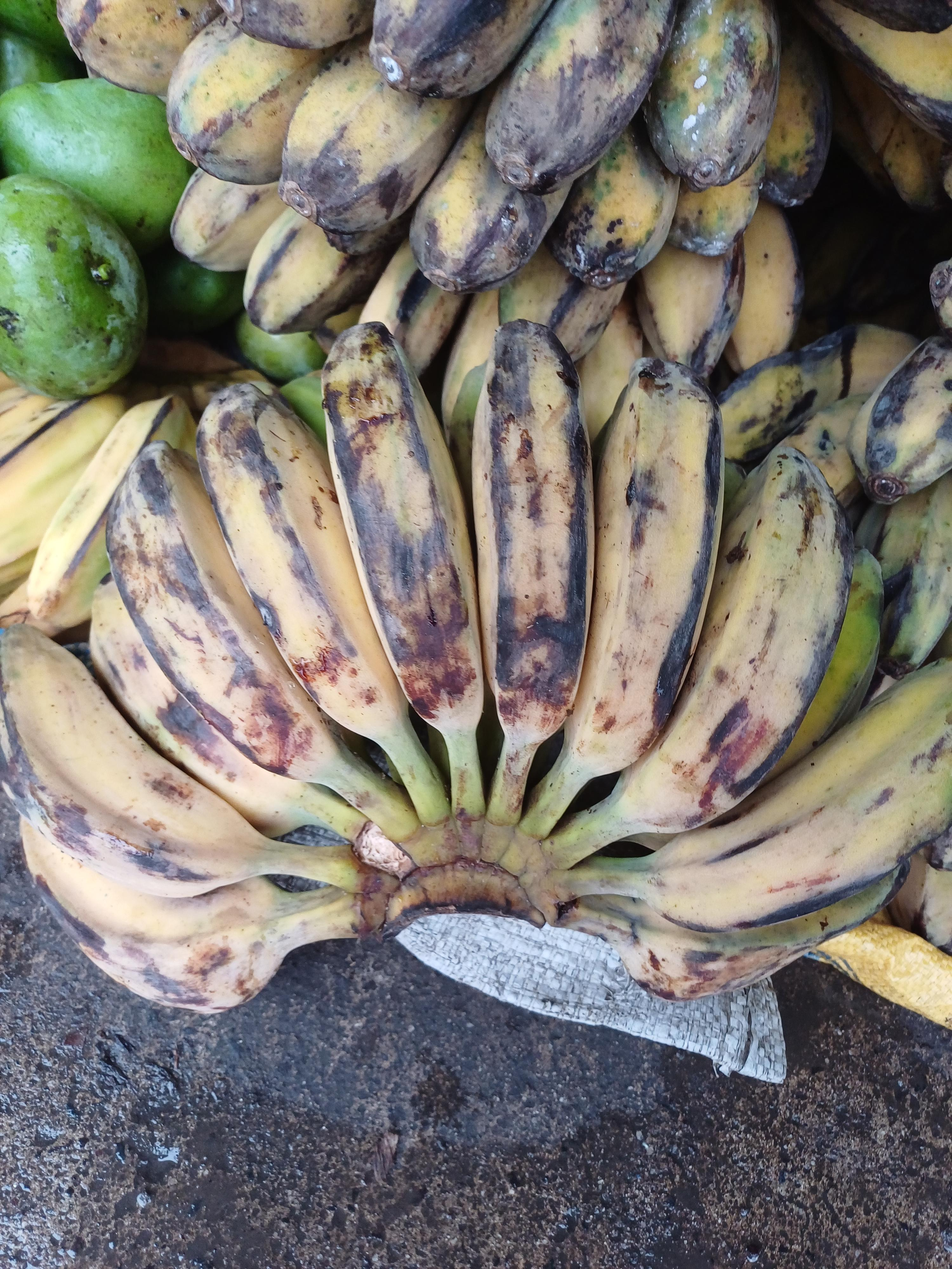ripe: (1, 321, 952, 1011), (0, 371, 197, 633)
underripe: (57, 0, 831, 443)
